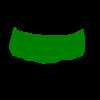mutande: (9, 26, 85, 64)
